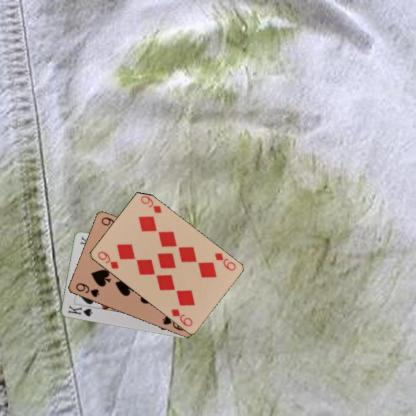9d: (94, 248, 120, 270), (211, 250, 237, 272)
9s: (73, 280, 100, 299)
Ks: (65, 303, 93, 318)
